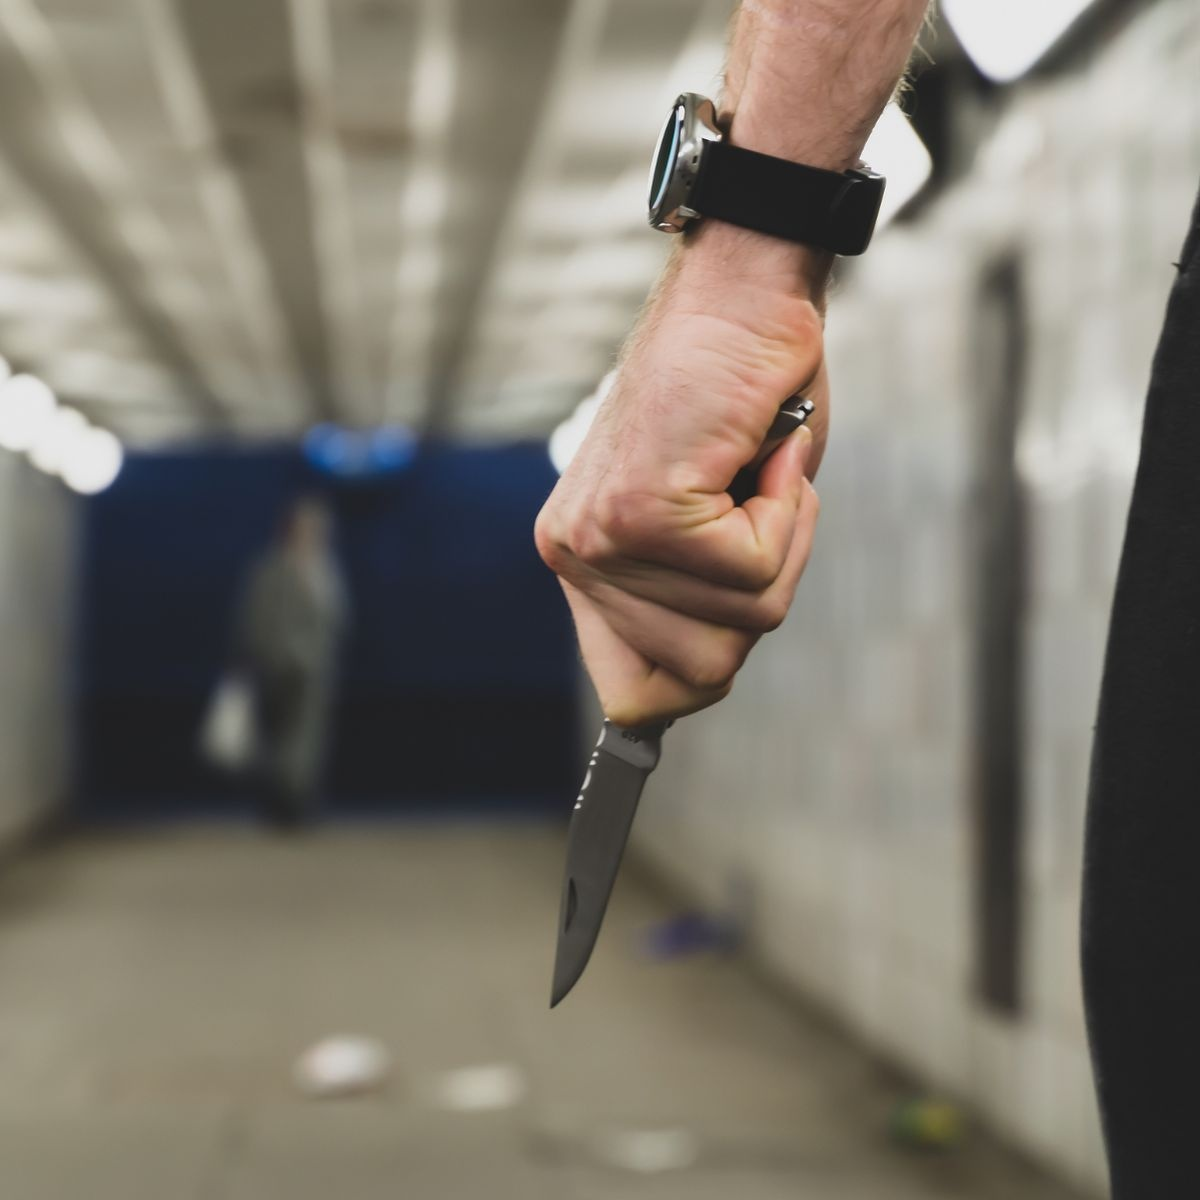knife: (546, 391, 819, 1013)
